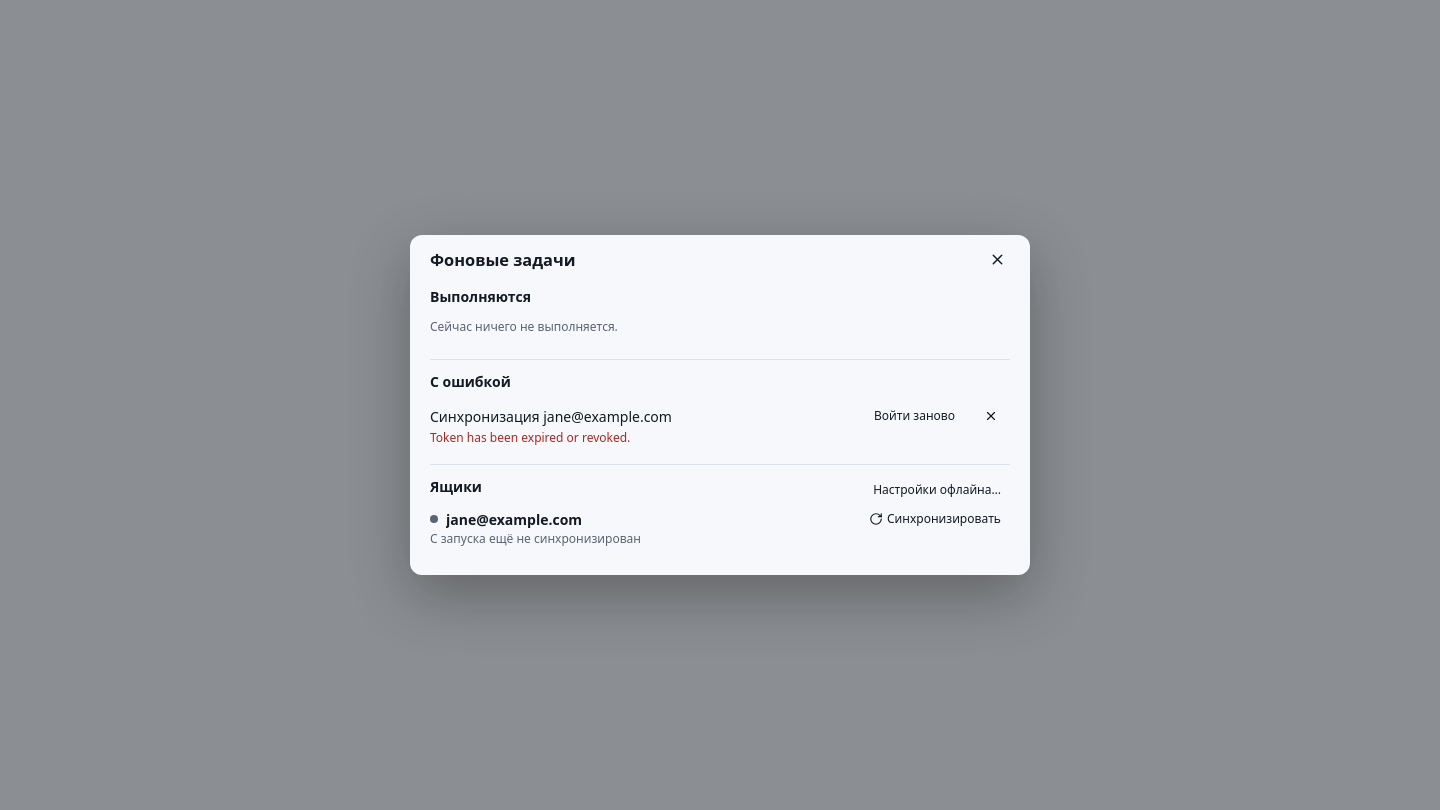
Test: a failed task in the tasks window, more › a double click signs in once, and the button waits meanwhile
What coordinates should you click on to do the following:
click the button with class "small-btn" showing "Войти заново"
I would click on:
 (914, 416)
Its box is top-left (865, 405), bottom-right (964, 427).
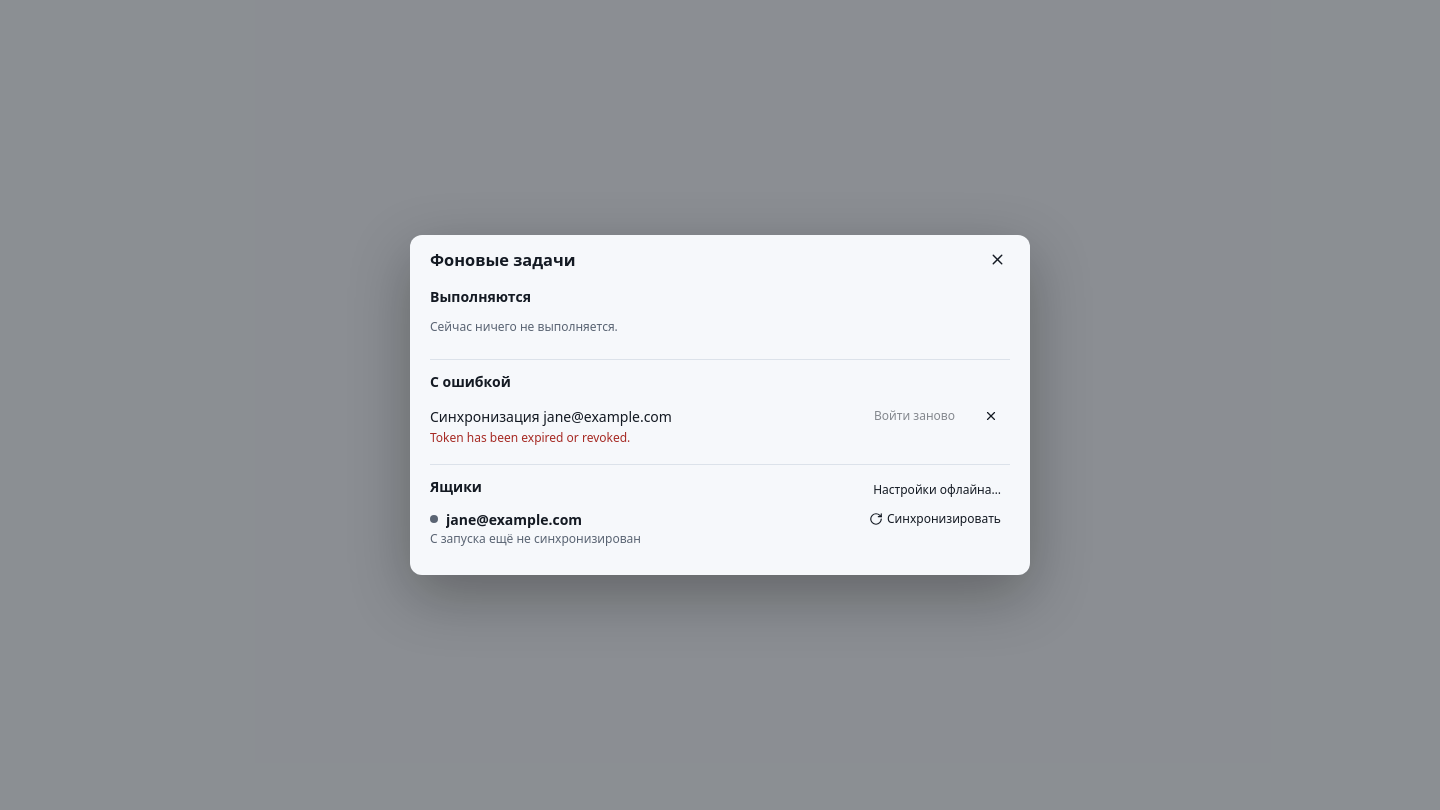
Expected: the button with class "small-btn" showing "Войти заново" is disabled
What coordinates should you click on to do the following:
click the button with class "small-btn" showing "Войти заново"
I would click on:
 (914, 416)
Its box is top-left (865, 405), bottom-right (964, 427).
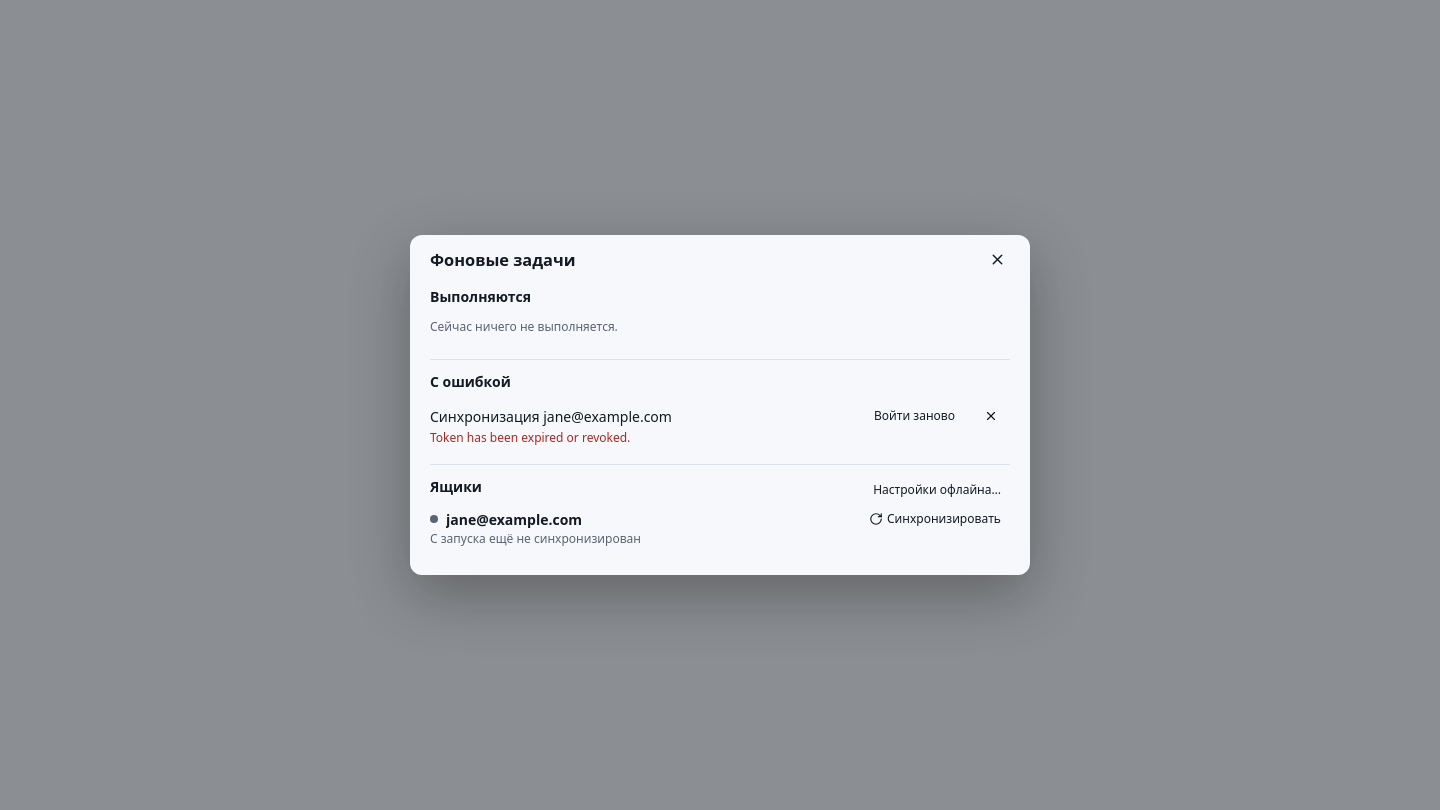
Expected: the button with class "small-btn" showing "Войти заново" is enabled, top-left (865, 405), bottom-right (964, 427)
